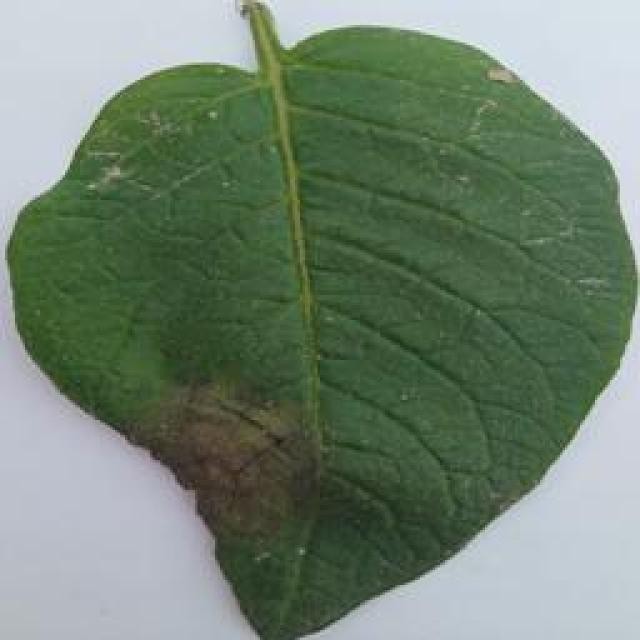Potato_Late_Blight: (8, 11, 627, 640)
